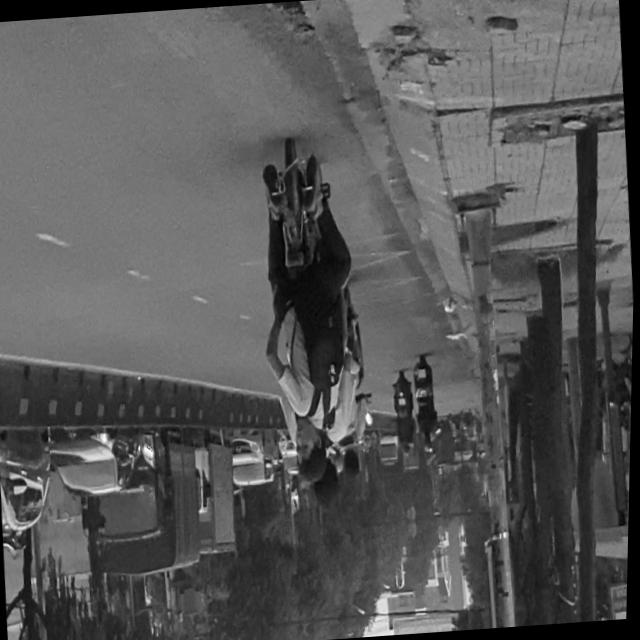licenseplate: (246, 126, 380, 512)
motorcyclist: (293, 416, 331, 486), (313, 466, 342, 511)
